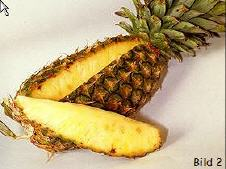pineapple: (0, 0, 225, 162)
